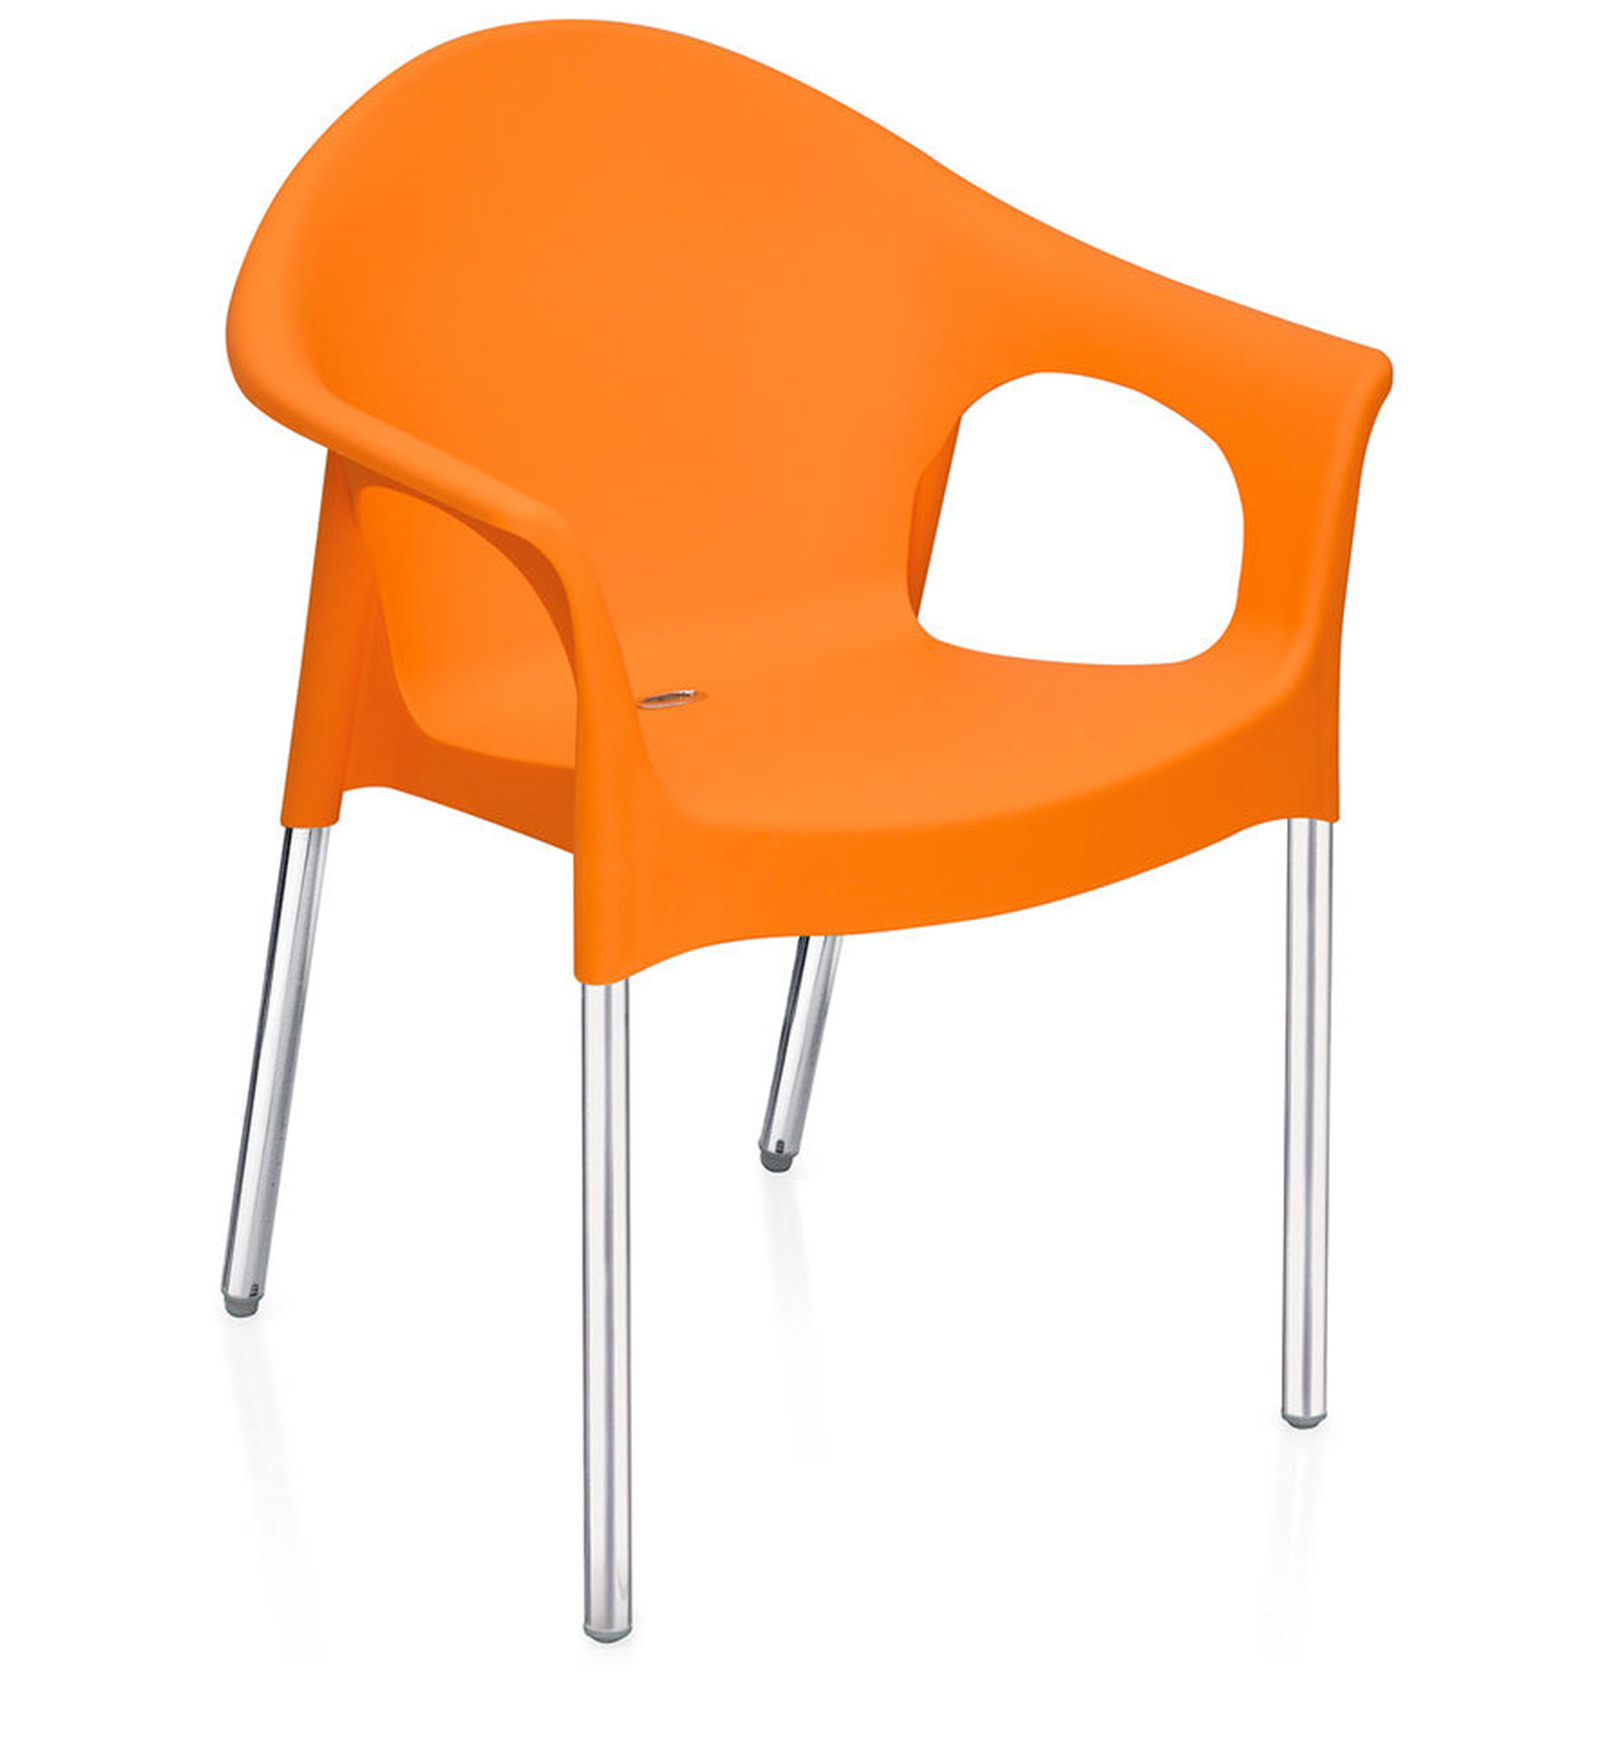Novella Series - 9 (Set of 2) Chairs in Orange Colour by Nilkamal: (219, 9, 1385, 1640)
